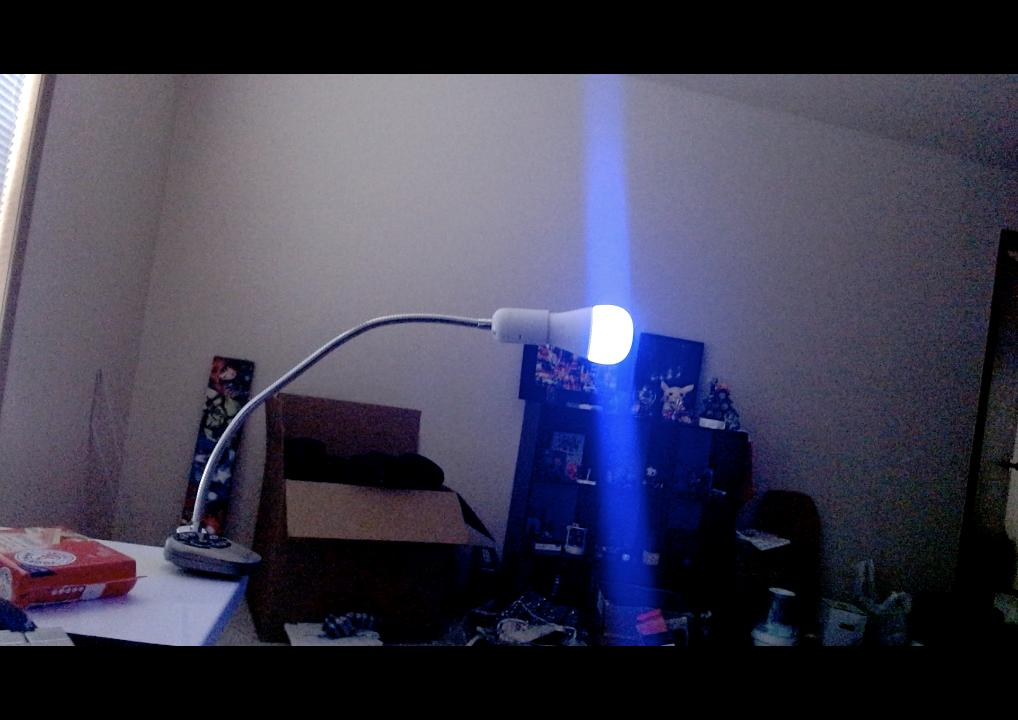TubeLight: (548, 302, 633, 363)
